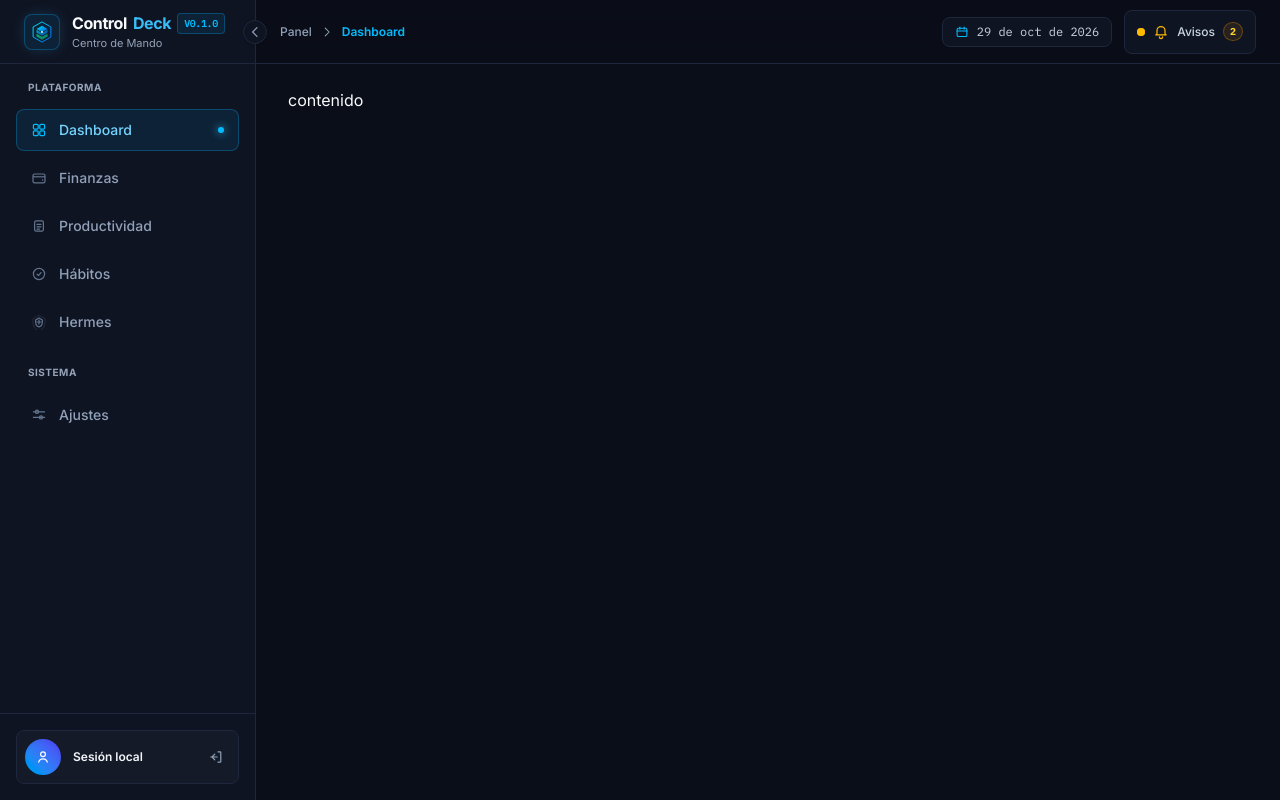
Test: AppShell collapsible rail › collapses to the icon rail: groups, labels, brand subline and profile text disappear
Click the button named "Colapsar barra lateral" at (255, 32), box 233,10 -> 277,54
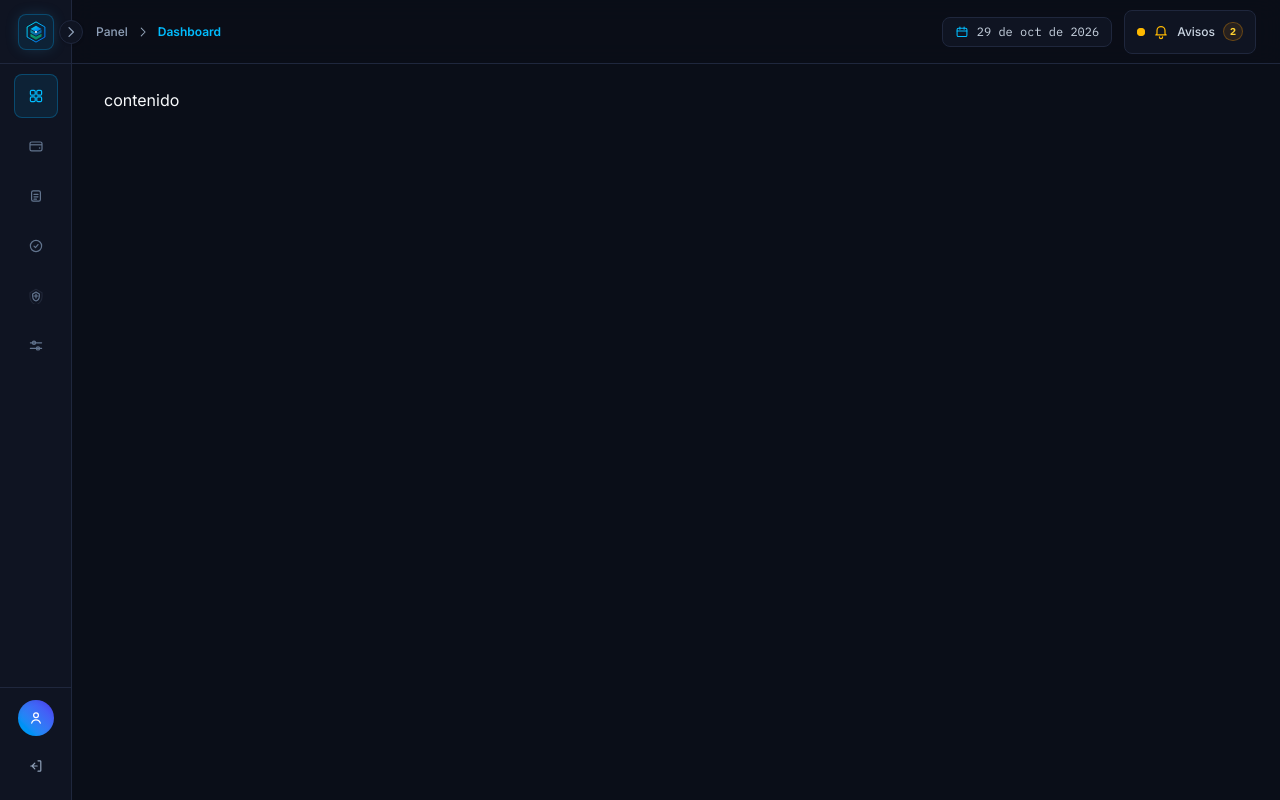
Expected: the text "Plataforma" is gone
Expected: the text "Sistema" is gone
Expected: the text "Centro de Mando" is gone
